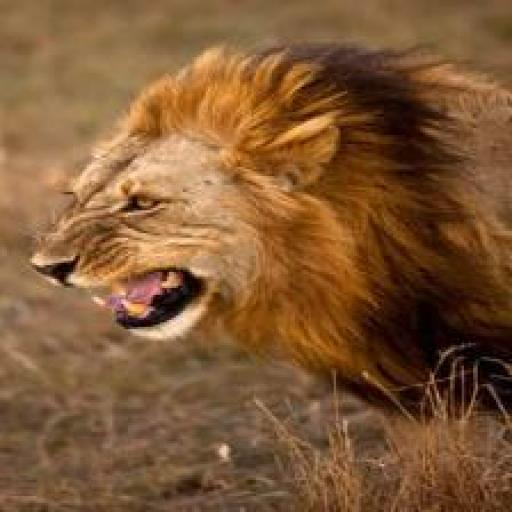lion: (20, 36, 512, 398)
